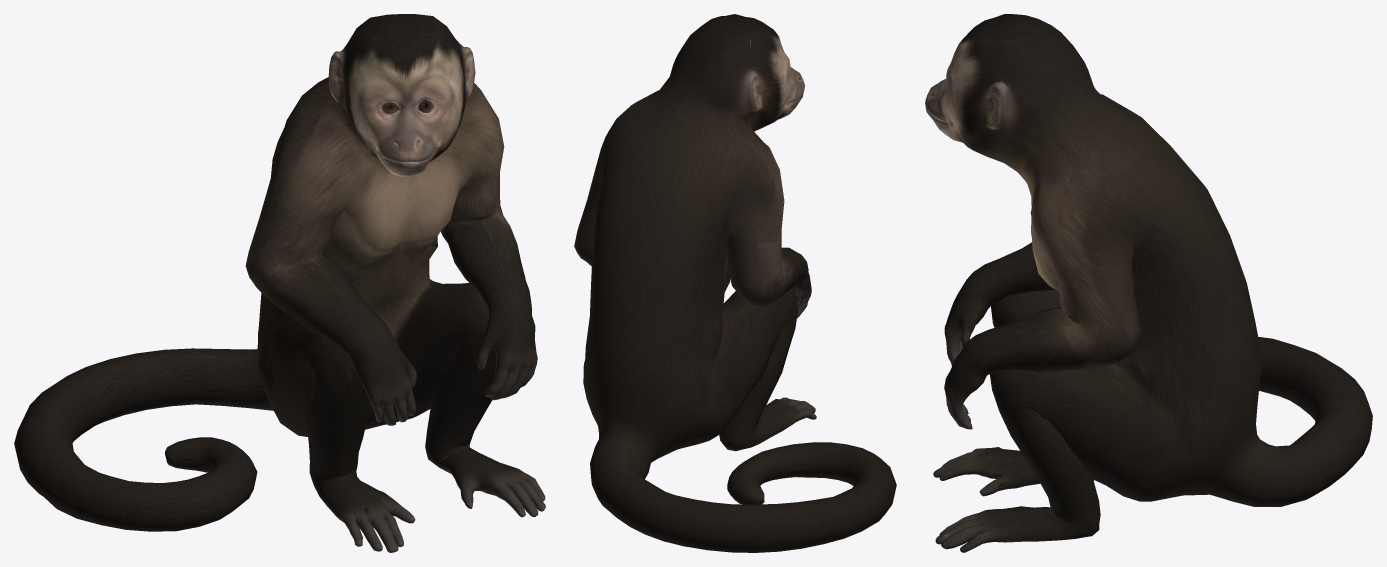
Rendered from monkey_t2.glb.
3 views of the same model, side by side, from view 1: azimuth 30°, elevation 25°; view 2: azimuth 150°, elevation 25°; view 3: azimuth 270°, elevation 25° (orthographic). The views are drawn at different scales.
Bounding box in the file's own units: 0.8359 × 0.9526 × 0.8096.
1 material, 1 textured.
